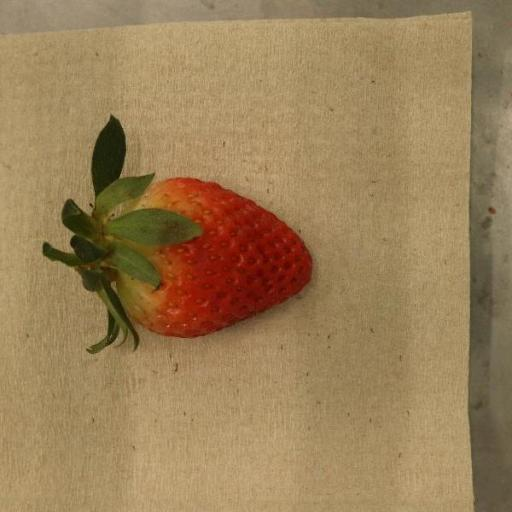Strawberry: (41, 116, 312, 355)
